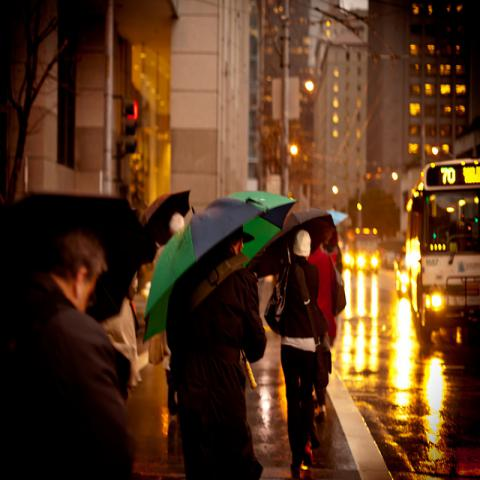bus: (407, 156, 479, 330)
